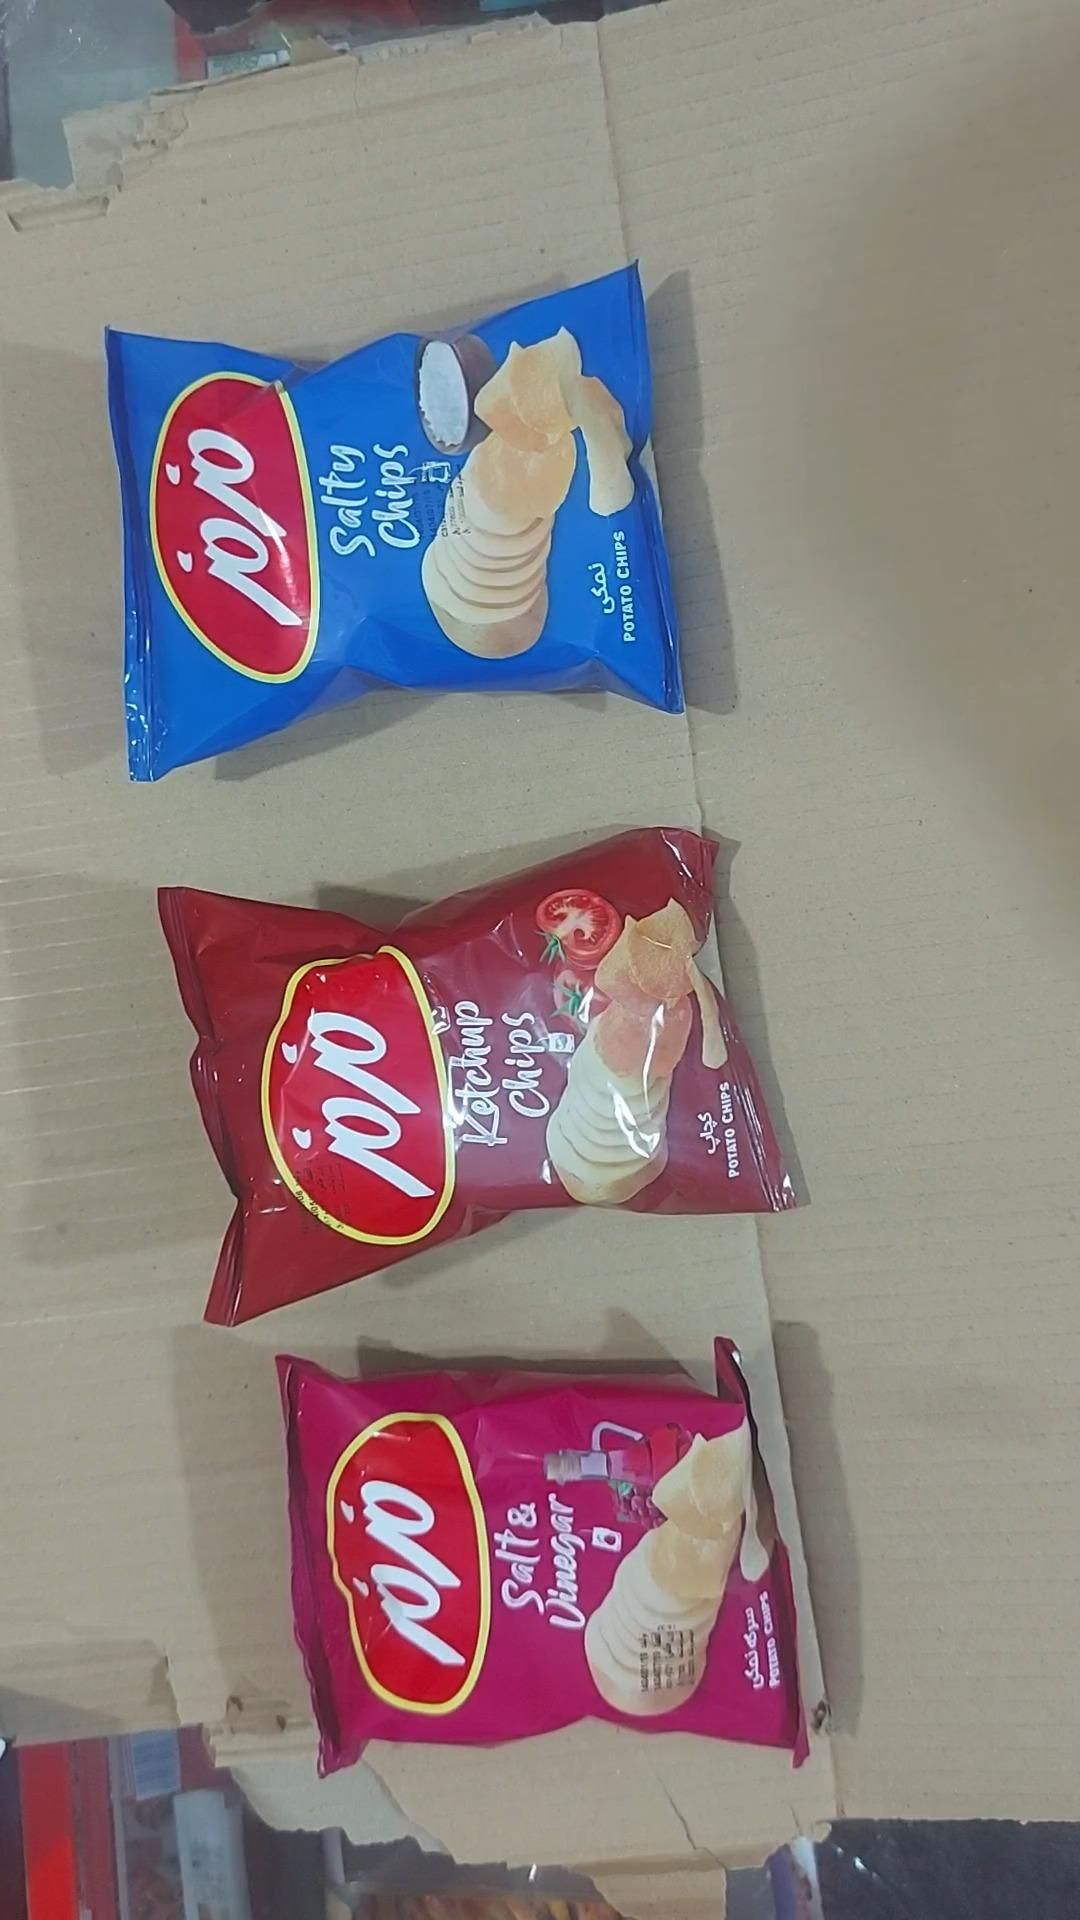Maz Maz ketchup chips: (160, 827, 795, 1325)
Maz Maz salty chips: (107, 268, 680, 778)
Maz Maz vinegar chips: (280, 1341, 808, 1772)
